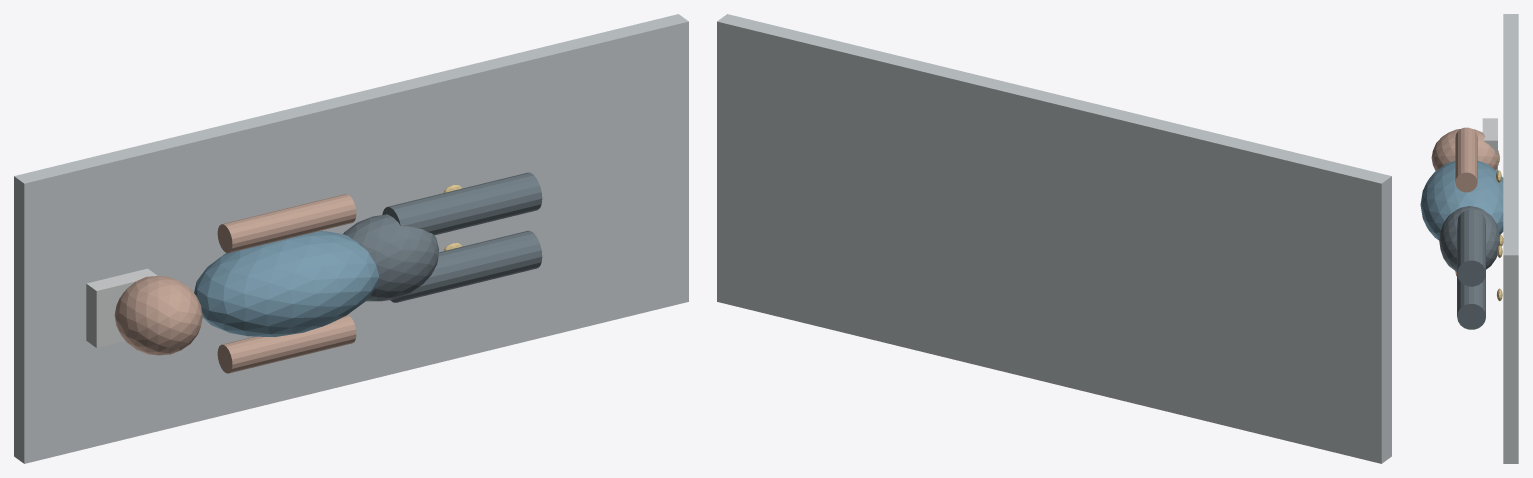
The model's file is dorsal-medium.glb.
3 views of the same model, side by side, from view 1: azimuth 30°, elevation 25°; view 2: azimuth 150°, elevation 25°; view 3: azimuth 270°, elevation 25° (orthographic). The views are drawn at different scales.
Visible parts, largest first — view 1: reference_surface, torso, right_leg, head, pelvis, left_leg, right_arm, left_arm, head_support_proxy; view 2: reference_surface; view 3: reference_surface, torso, right_leg, pelvis, right_arm, left_leg, head, head_support_proxy.
Part boxes in pixels (x1,y1,x2,y2): reference_surface: (14, 14, 688, 463); torso: (194, 231, 379, 336); right_leg: (382, 172, 542, 235); head: (114, 276, 202, 355); pelvis: (343, 214, 438, 301); left_leg: (390, 230, 542, 302); right_arm: (217, 194, 356, 252); left_arm: (217, 315, 356, 373); head_support_proxy: (86, 268, 157, 347); reference_surface: (717, 14, 1391, 463); reference_surface: (1503, 14, 1518, 463); torso: (1420, 161, 1503, 240); right_leg: (1457, 209, 1485, 286); pelvis: (1439, 206, 1499, 271); right_arm: (1455, 127, 1477, 192); left_leg: (1457, 274, 1485, 329); head: (1431, 129, 1498, 171); head_support_proxy: (1482, 118, 1497, 170).
Bounding box in the file's own units: 6.7 × 2.7 × 1.15.
